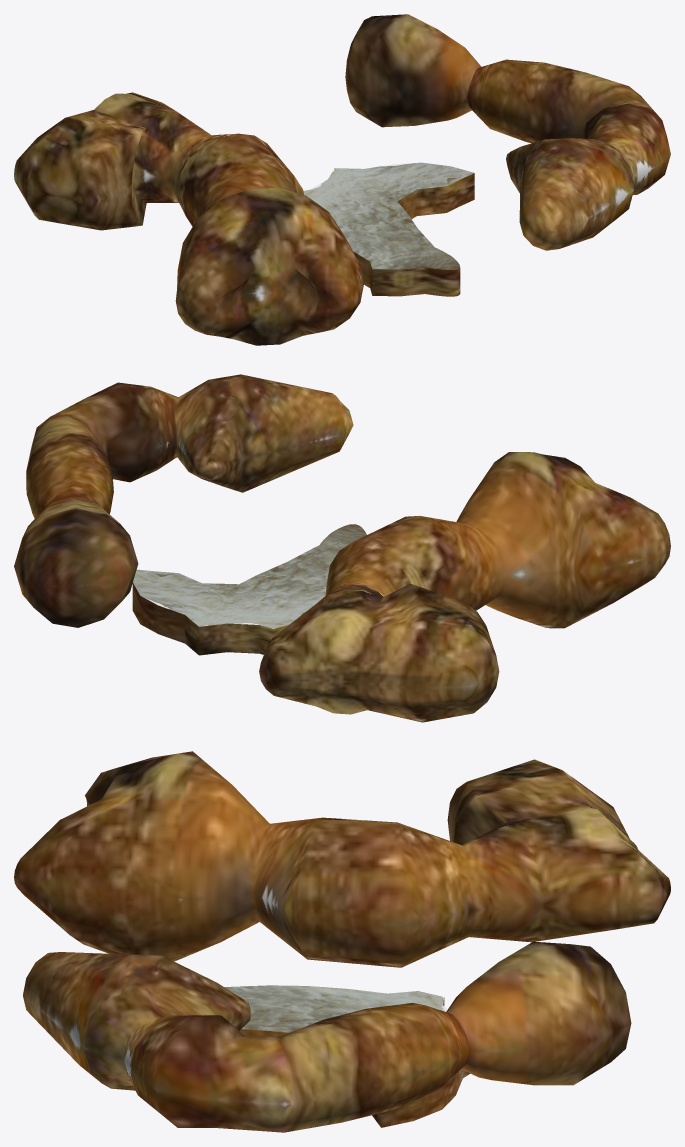
The model's file is huangjing.FBX.
3 views of the same model, one above another, from view 1: azimuth 30°, elevation 25°; view 2: azimuth 150°, elevation 25°; view 3: azimuth 270°, elevation 25° (orthographic). The views are drawn at different scales.
Visible parts, largest first — view 1: Cylinder001, Cylinder002, Line001; view 2: Cylinder001, Cylinder002, Line001; view 3: Cylinder001, Cylinder002, Line001.
Boxes of the visible parts, x1=… form: Cylinder001: x1=14, y1=92, x2=363, y2=345; Cylinder002: x1=345, y1=14, x2=670, y2=250; Line001: x1=303, y1=162, x2=474, y2=296; Cylinder001: x1=259, y1=452, x2=670, y2=722; Cylinder002: x1=14, y1=374, x2=353, y2=627; Line001: x1=132, y1=524, x2=366, y2=655; Cylinder001: x1=14, y1=751, x2=670, y2=967; Cylinder002: x1=23, y1=941, x2=631, y2=1132; Line001: x1=224, y1=985, x2=470, y2=1127.
Bounding box in the file's own units: 0.2464 × 0.0686 × 0.2065.
Materials: 1 (1 with a texture image).
